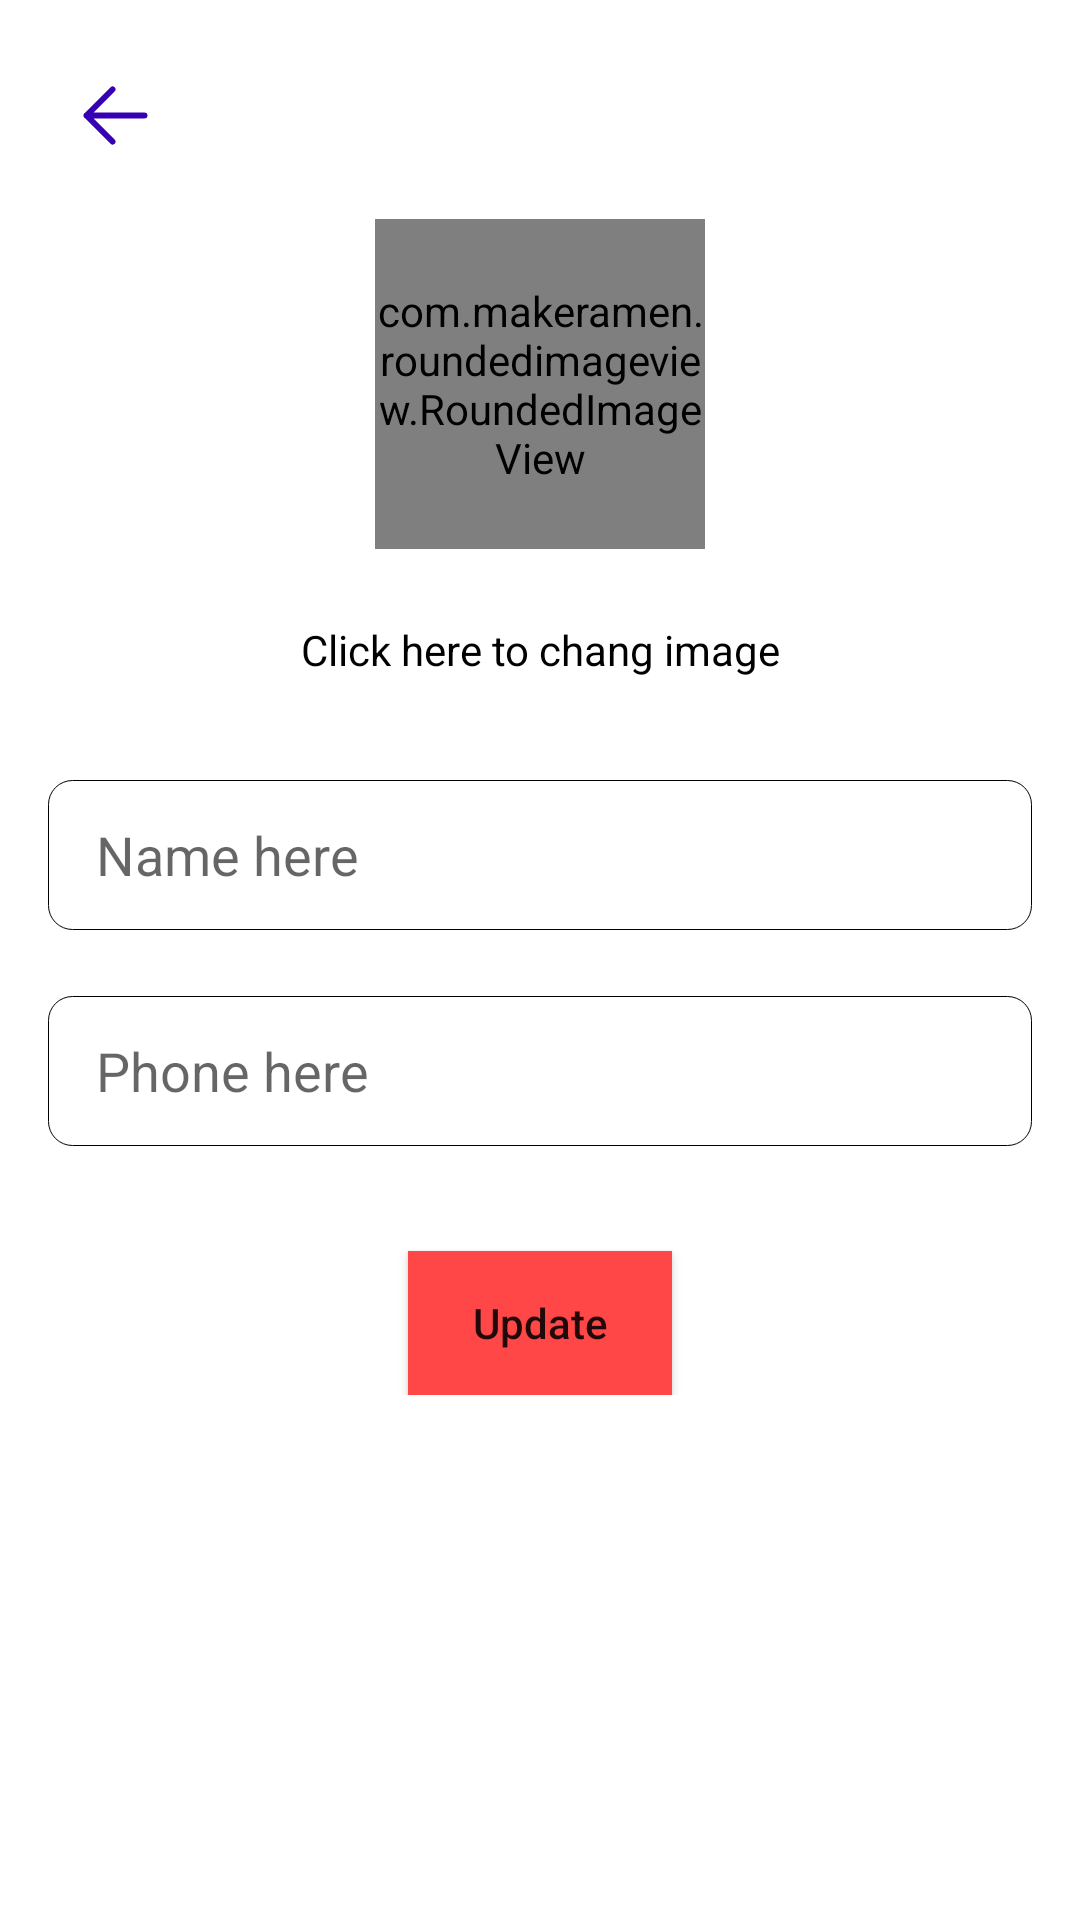

Icons on this 1080px x 1920px Android screen, each with the point to tap as point (x, y):
back: point (115, 115)
